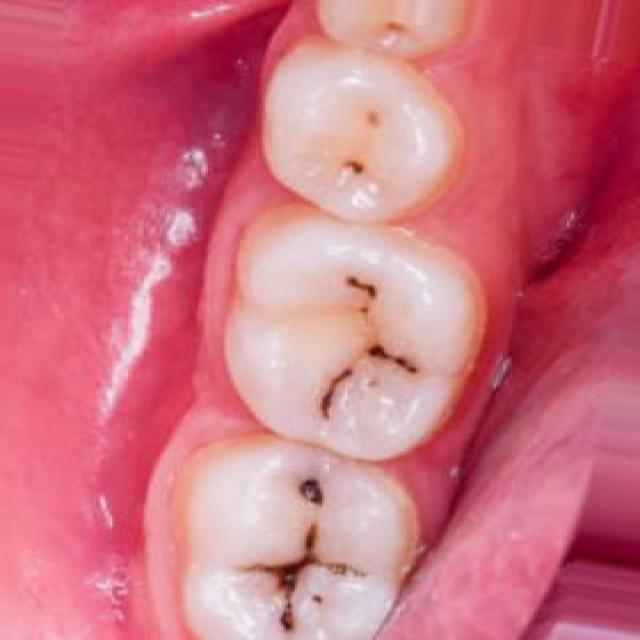caries: (211, 466, 389, 640), (276, 256, 433, 434), (296, 100, 422, 194), (363, 4, 445, 69)
